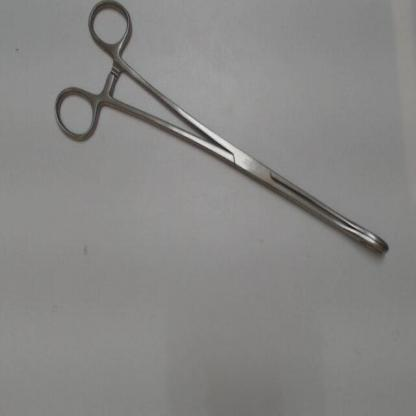Sponge Forceps: (46, 0, 394, 263)
